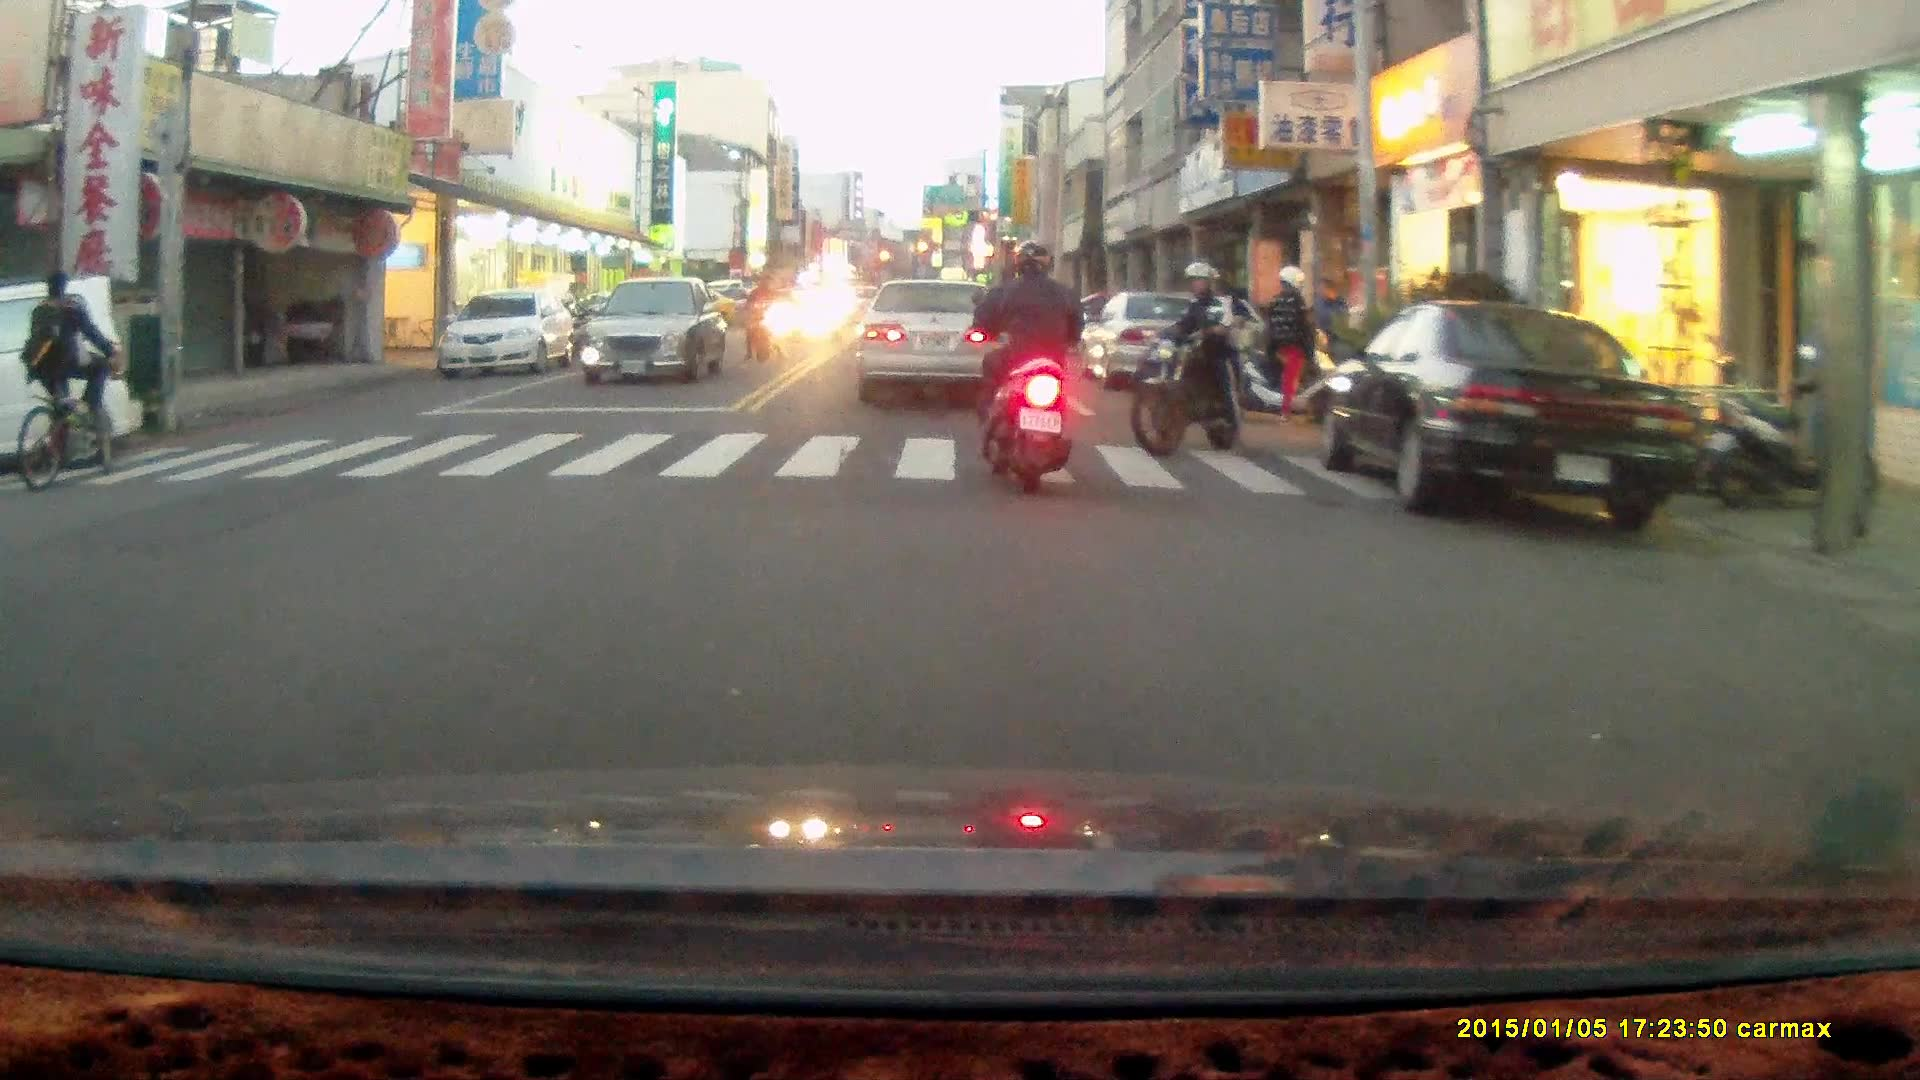pedestrian: (1268, 264, 1313, 428), (1313, 278, 1350, 390)
rider: (969, 240, 1089, 498), (1126, 260, 1273, 454), (14, 271, 115, 499), (737, 273, 781, 359)
vehicle: (1321, 304, 1701, 534), (1, 271, 145, 464), (852, 278, 1007, 408), (1079, 292, 1242, 394), (582, 278, 731, 390), (437, 288, 574, 378)
